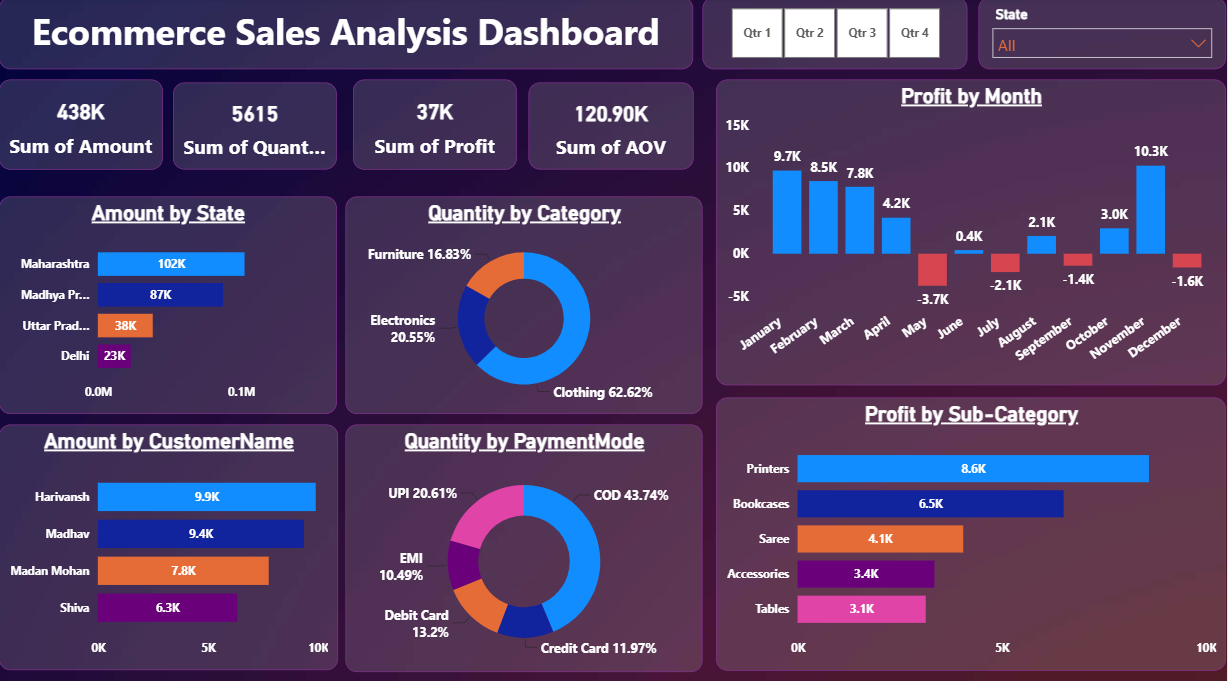

What the dashboard file says about the page in this screenshot:
{"tool":"powerbi","page":{"name":"Page 1","canvas":[1280,720],"ordinal":0},"visuals":[{"type":"textbox","box":[0,0,723.3,75.6],"z":0},{"type":"columnChart","title":"Profit by Month","fields":{"Category":["Orders.Order Date.Variation.Date Hierarchy.Month"],"Y":["Sum(Details.Profit)"]},"box":[747.1,86,531.4,318.8],"z":1000},{"type":"barChart","title":"Profit by Sub-Category ","fields":{"Category":["Details.Sub-Category"],"Y":["Sum(Details.Profit)"],"Series":["Details.Sub-Category"]},"box":[747.1,417.3,531.4,284.5],"z":2000},{"type":"donutChart","title":"Quantity by Category","fields":{"Series":["Details.Category"],"Y":["Sum(Details.Quantity)"]},"box":[361.1,207.9,372,226.6],"z":3000},{"type":"donutChart","title":"Quantity by PaymentMode","fields":{"Series":["Details.PaymentMode"],"Y":["Sum(Details.Quantity)"]},"box":[361.1,445.5,372,257.9],"z":4000},{"type":"card","fields":{"Values":["Sum(Details.Amount)"]},"box":[0,86,170.4,93.8],"z":5000},{"type":"card","fields":{"Values":["Sum(Details.Quantity)"]},"box":[181.3,89.1,170.4,90.7],"z":6000},{"type":"card","fields":{"Values":["Sum(Details.Profit)"]},"box":[368.9,86,170.4,93.8],"z":7000},{"type":"card","fields":{"Values":["Sum(Details.Column)"]},"box":[551.7,89.1,171.9,90.7],"z":8000},{"type":"barChart","title":" Amount by State","fields":{"Category":["Orders.State"],"Y":["Sum(Details.Amount)"],"Series":["Orders.State"]},"box":[0,207.9,351.7,226.6],"z":9000},{"type":"barChart","title":"Amount by CustomerName","fields":{"Category":["Orders.CustomerName"],"Y":["Sum(Details.Amount)"],"Series":["Orders.CustomerName"]},"box":[0,445.5,353.2,256.3],"z":10000},{"type":"slicer","fields":{"Values":["Orders.Order Date.Variation.Date Hierarchy.Quarter"]},"box":[733.2,0,276.2,75.6],"z":11000},{"type":"slicer","fields":{"Values":["Orders.State"]},"box":[1020.6,0,257.9,75],"z":12000}]}

Visuals, with their boxes in screenshot pixels (x1, y1, x2, y2), scaled from the page's 1280x720 canvas onto the 1228x681 screenshot:
textbox: x1=0 y1=0 x2=694 y2=72
"Profit by Month" columnChart: x1=717 y1=81 x2=1227 y2=383
"Profit by Sub-Category " barChart: x1=717 y1=395 x2=1227 y2=664
"Quantity by Category" donutChart: x1=346 y1=197 x2=703 y2=411
"Quantity by PaymentMode" donutChart: x1=346 y1=421 x2=703 y2=665
card - Sum(Details.Amount): x1=0 y1=81 x2=163 y2=170
card - Sum(Details.Quantity): x1=174 y1=84 x2=337 y2=170
card - Sum(Details.Profit): x1=354 y1=81 x2=517 y2=170
card - Sum(Details.Column): x1=529 y1=84 x2=694 y2=170
" Amount by State" barChart: x1=0 y1=197 x2=337 y2=411
"Amount by CustomerName" barChart: x1=0 y1=421 x2=339 y2=664
slicer - Orders.Order Date.Variation.Date Hierarchy.Quarter: x1=703 y1=0 x2=968 y2=72
slicer - Orders.State: x1=979 y1=0 x2=1227 y2=71
